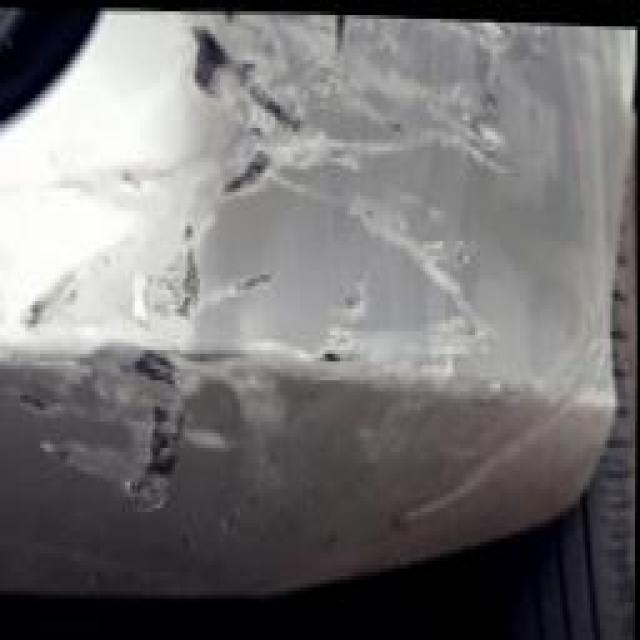Bumper: (0, 0, 640, 610)
